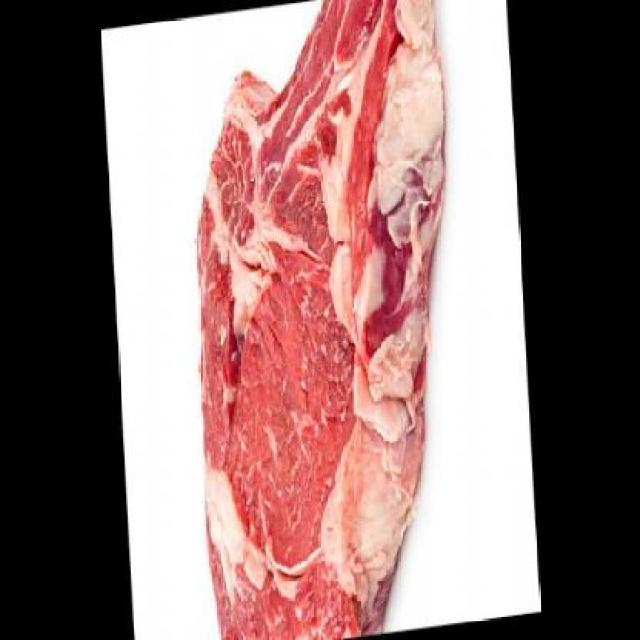beef: (176, 0, 476, 638)
